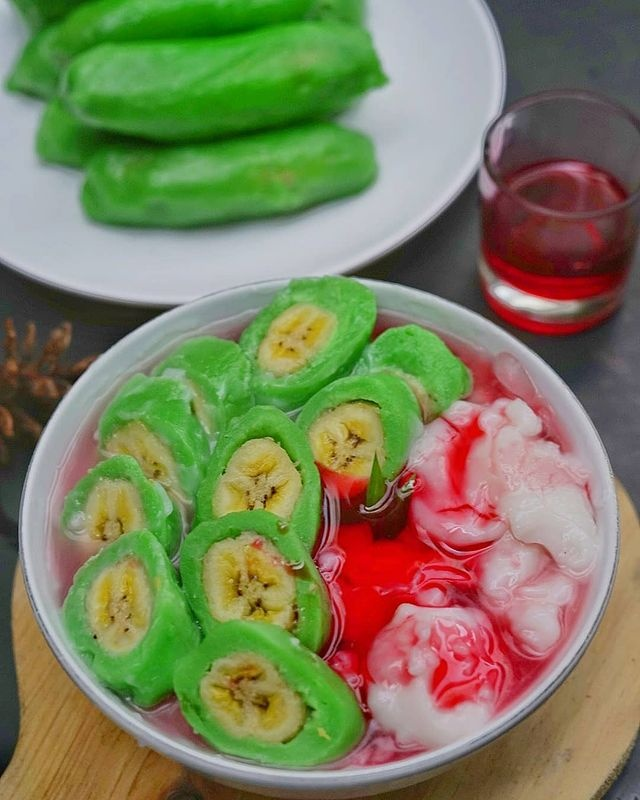pisang_ijo: (168, 627, 355, 770), (59, 533, 203, 708), (236, 261, 385, 401)
